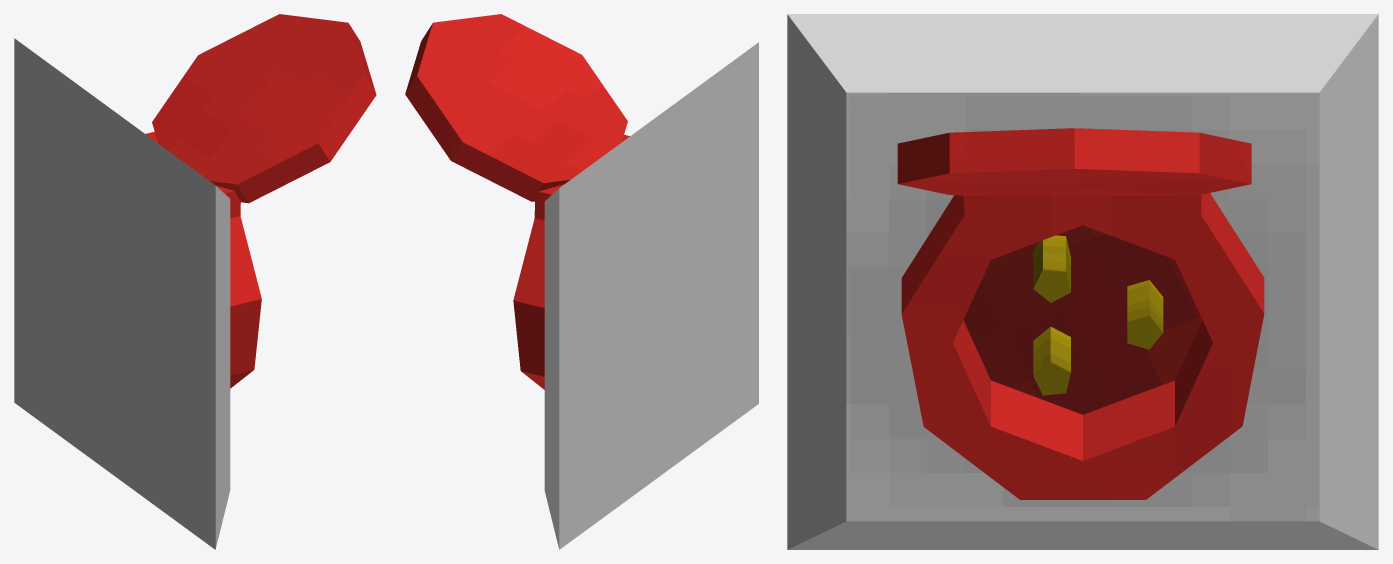
Rendered from PowerSocket800.obj.
3 renders of one model, left to right at view 1: azimuth 30°, elevation 25°; view 2: azimuth 150°, elevation 25°; view 3: azimuth 270°, elevation 25°, orthographic. The views are drawn at different scales.
Parts seen in each view (by area): view 1: main; view 2: main; view 3: main.
Part boxes in pixels (bbox=[...]): main: bbox=[14, 14, 376, 549]; main: bbox=[405, 14, 758, 549]; main: bbox=[787, 14, 1378, 549].
Bounding box in the file's own units: 0.2177 × 0.3424 × 0.3125.
